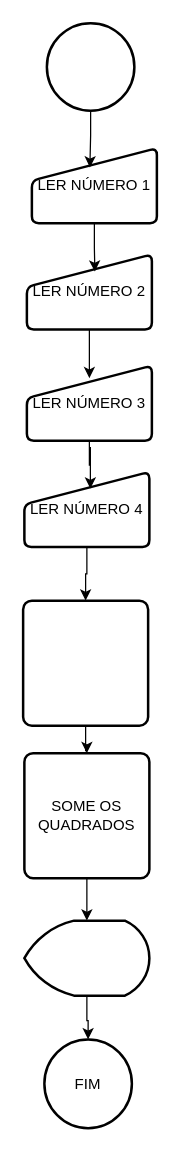
The diagram is 179 pixels wide and 1150 high, and some of its shapes have lost their labels. Each missing label, with the centre of its shape:
CALCULE O QUADRADO DE CADA NÚMERO: pixel 85 662
INÍCIO: pixel 90 66
SOMA DOS QUADRADOS: pixel 86 957
